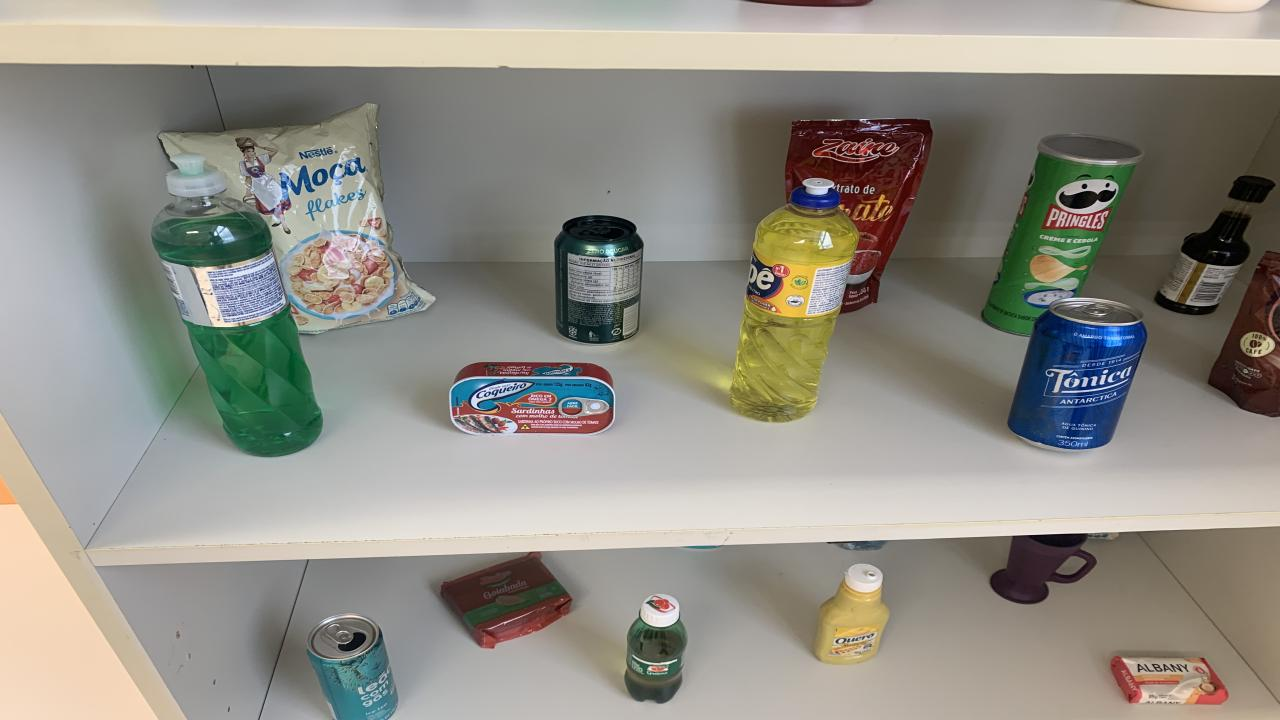Detergent-Cleanup_Items: (152, 154, 322, 456), (730, 178, 860, 422)
English_Sauce-Pantry_Items: (1155, 174, 1275, 315)
Flakes-Snacks: (160, 103, 435, 334)
Guarana-Drinks: (625, 594, 688, 703)
Guarana_Can-Drinks: (555, 216, 642, 345)
Guava-Snacks: (440, 551, 572, 649)
Mustard-Pantry_Items: (812, 564, 890, 664)
Pringles-Snacks: (982, 133, 1142, 336)
Soap-Cleanup_Items: (1110, 656, 1228, 705)
Tea-Drinks: (308, 613, 398, 720)
Tomato_Sauce-Pantry_Items: (785, 118, 932, 313)
Tonic-Drinks: (1008, 298, 1148, 450)
Tuna_Can-Pantry_Items: (450, 362, 615, 435)
